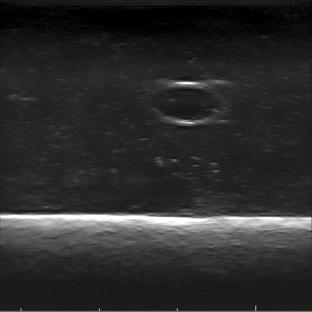vessel: (148, 81, 227, 126)
